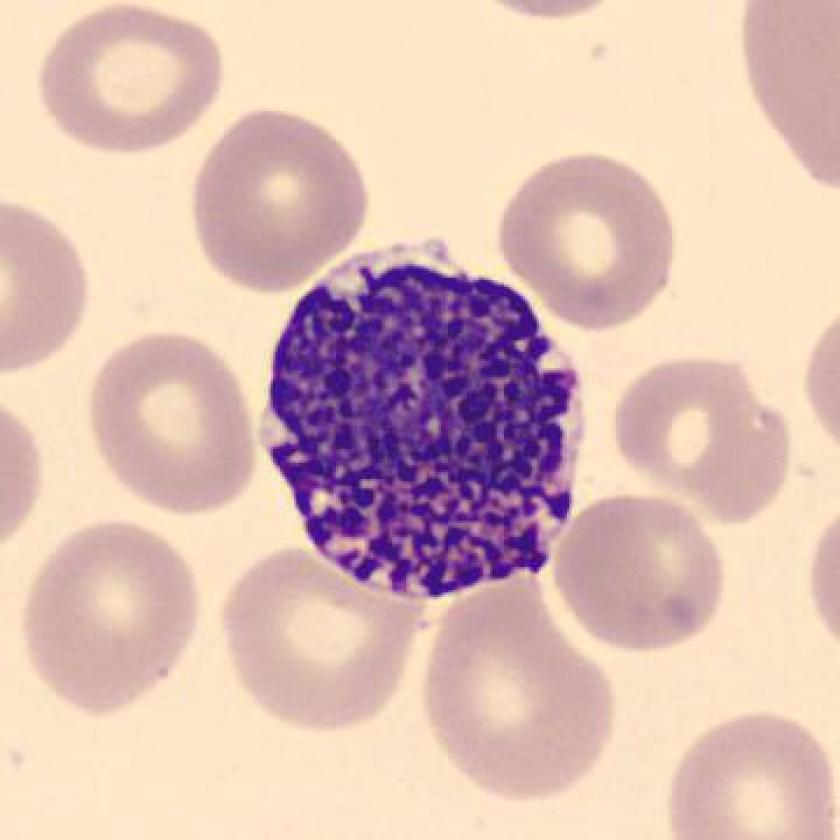basophil: (246, 239, 582, 605)
